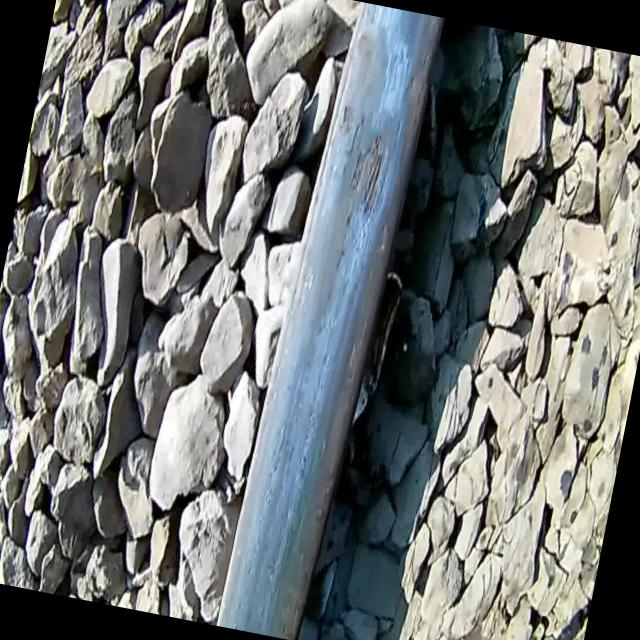Squats: (288, 94, 430, 267)
